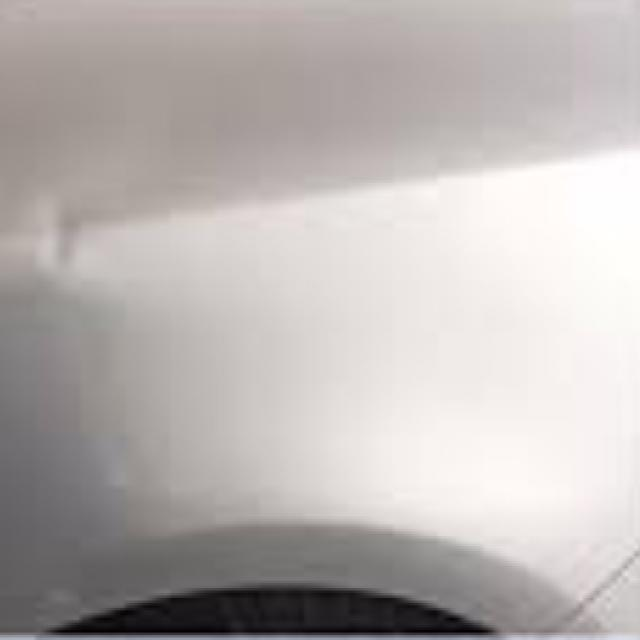dents: (26, 180, 145, 297)
